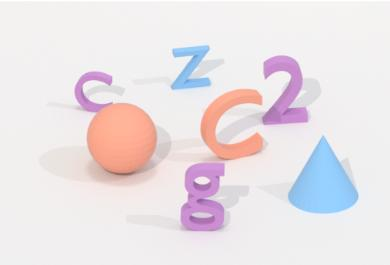0-TamGiac: (285, 134, 361, 218)
0-Tron: (84, 100, 161, 177)
2: (259, 51, 311, 126)
C: (198, 86, 267, 162), (72, 68, 116, 114)
Z: (167, 39, 213, 92)
g: (178, 159, 228, 236)
